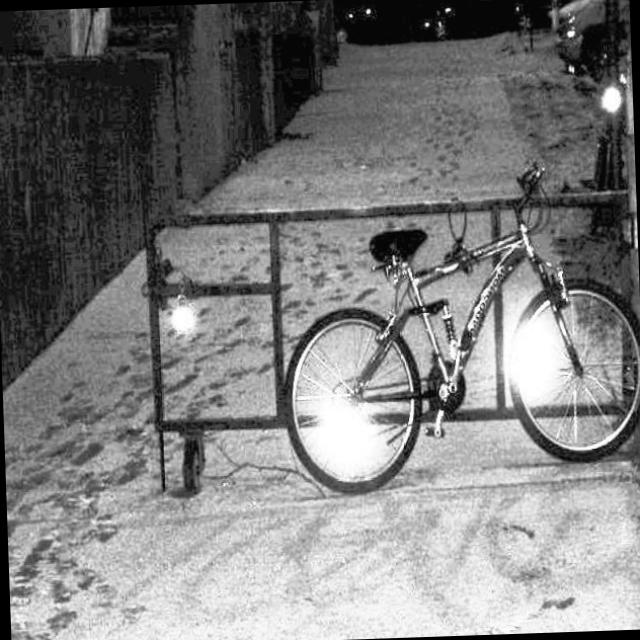Bicycle: (207, 157, 640, 540)
